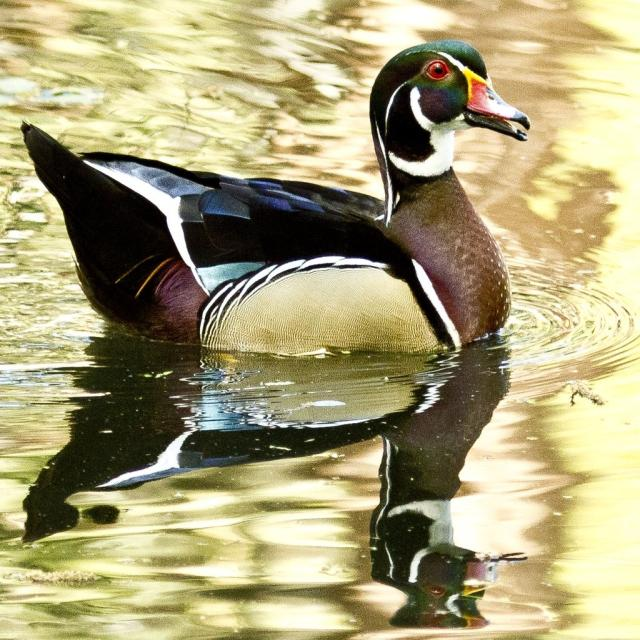bird: (19, 39, 534, 354)
